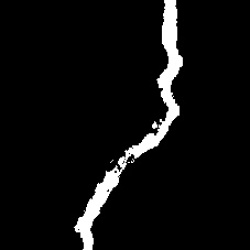crack: (72, 5, 186, 247)
